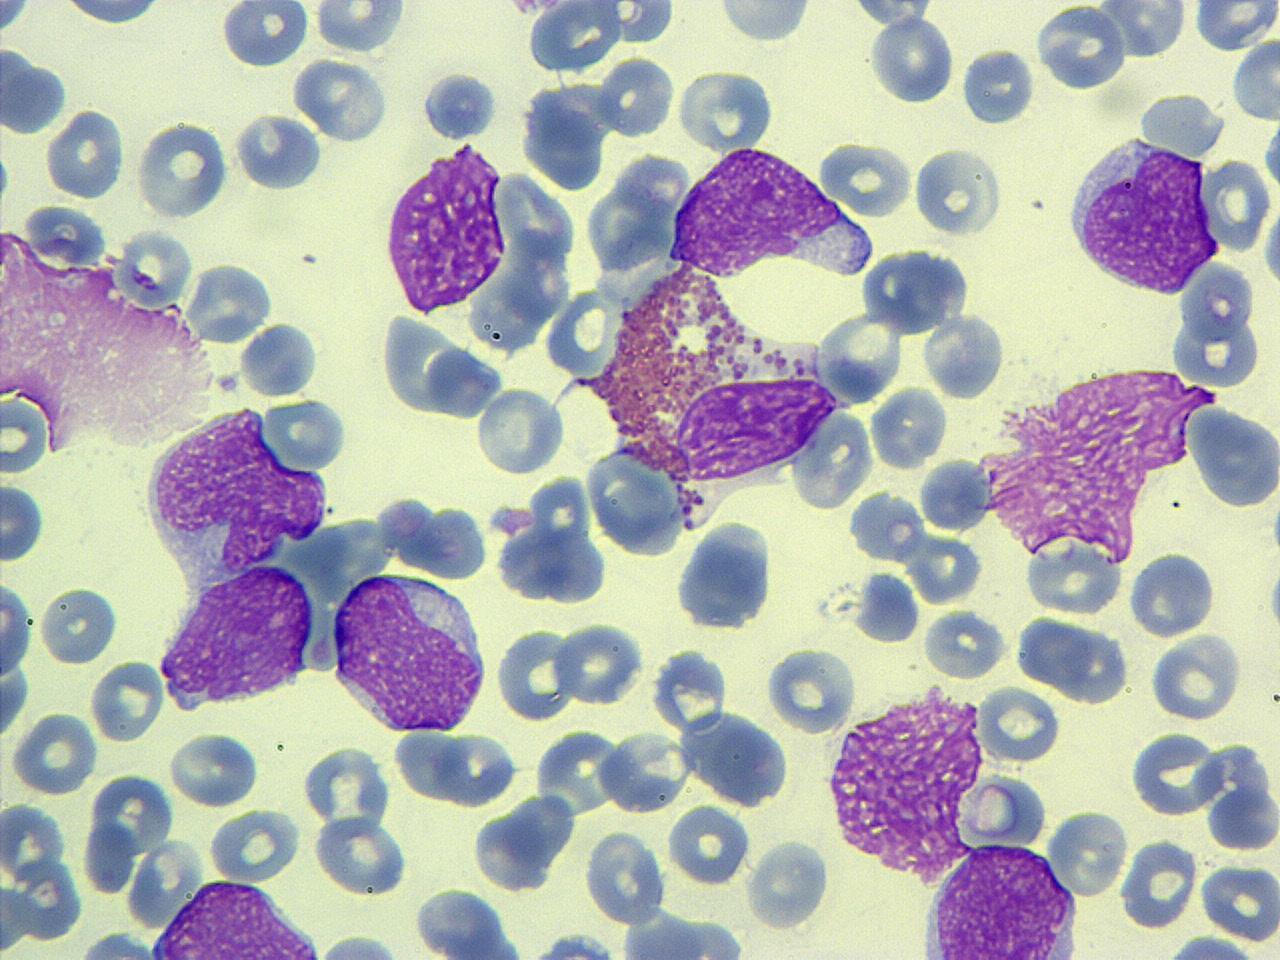Platelets: (1265, 572, 1280, 632), (0, 150, 14, 202), (214, 372, 242, 394), (1268, 509, 1280, 554)
RBC: (672, 517, 776, 635), (680, 706, 792, 806), (858, 246, 974, 338), (1184, 400, 1280, 511), (131, 120, 232, 221), (673, 64, 779, 156), (788, 404, 874, 514), (1124, 730, 1226, 820), (814, 306, 904, 406), (912, 144, 1004, 240), (1146, 633, 1244, 723), (292, 58, 392, 146), (495, 622, 579, 726), (1127, 546, 1217, 642), (313, 810, 410, 898), (816, 134, 916, 220), (764, 643, 858, 734), (411, 884, 522, 960), (476, 386, 566, 478), (552, 618, 646, 707), (1032, 7, 1128, 94), (868, 10, 954, 106), (584, 826, 666, 926), (1044, 806, 1132, 899), (1020, 536, 1123, 616), (745, 836, 831, 930), (1116, 836, 1200, 932), (207, 803, 302, 884), (9, 709, 99, 796), (922, 310, 1006, 402), (45, 106, 126, 201), (521, 1, 624, 75), (1201, 154, 1275, 256), (258, 394, 354, 472), (166, 730, 262, 808), (666, 802, 752, 888), (0, 38, 74, 138), (976, 683, 1063, 766), (233, 110, 323, 192), (650, 644, 730, 736), (870, 382, 949, 473), (310, 744, 400, 824), (598, 52, 676, 142), (90, 655, 168, 745), (37, 583, 121, 667), (1199, 857, 1279, 944), (544, 284, 615, 382), (237, 320, 321, 400), (919, 604, 1007, 680), (219, 0, 312, 71), (959, 42, 1036, 128), (1137, 89, 1225, 159), (850, 486, 924, 568), (958, 774, 1044, 845), (918, 455, 993, 533), (419, 68, 498, 141), (309, 0, 409, 54), (0, 385, 56, 476), (1206, 786, 1280, 854), (1229, 33, 1280, 128), (713, 0, 817, 45), (1190, 0, 1278, 53), (82, 817, 137, 897), (0, 476, 49, 565), (55, 0, 167, 31), (528, 928, 629, 960), (1260, 201, 1280, 295), (1262, 118, 1280, 198)
WBC: (0, 204, 220, 453), (822, 674, 992, 888), (142, 398, 336, 584), (375, 136, 533, 339), (327, 569, 496, 737), (1062, 133, 1224, 298), (153, 562, 321, 716), (664, 142, 848, 275), (916, 842, 1082, 960), (145, 876, 324, 960)
